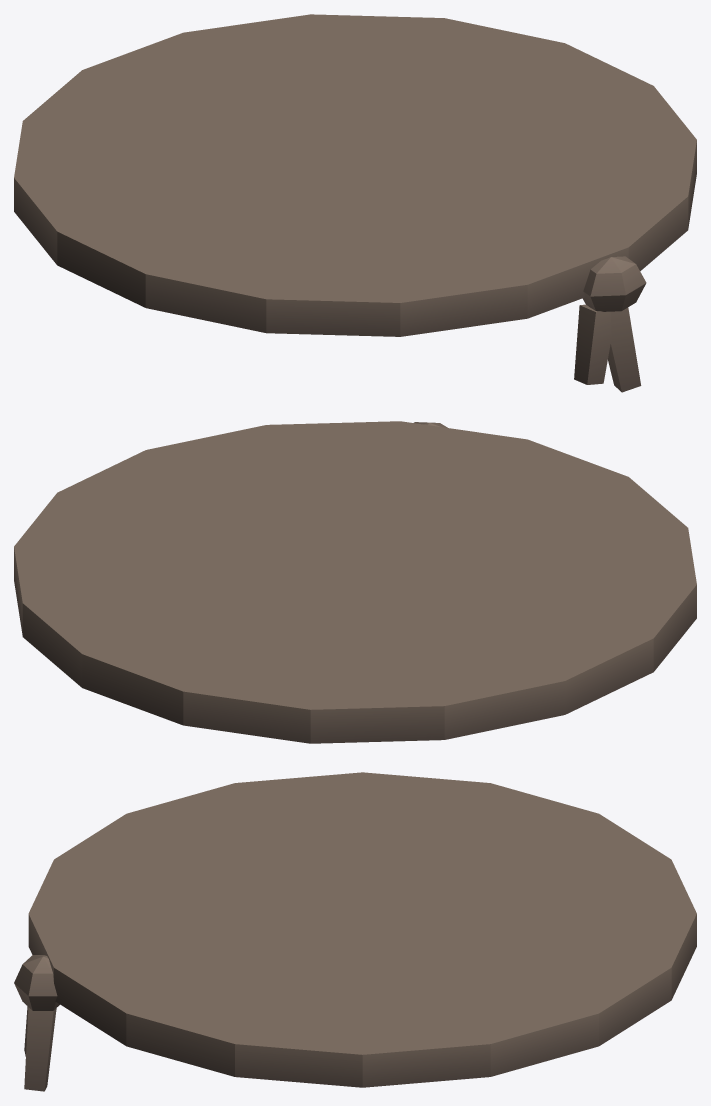
Rendered from rope_belt.glb.
The picture shows the model from 3 angles, top to bottom: view 1: azimuth 30°, elevation 25°; view 2: azimuth 150°, elevation 25°; view 3: azimuth 270°, elevation 25°; orthographic projection. The views are drawn at different scales.
Parts seen in each view (by area): view 1: rope_belt; view 2: rope_belt; view 3: rope_belt.
Boxes of the visible parts, <box> form: rope_belt: <box>14,14,696,392</box>; rope_belt: <box>14,421,696,743</box>; rope_belt: <box>14,772,696,1091</box>.
Size of the model in its own units: 0.92 by 0.1933 by 0.94.
Materials: 1 (1 with a texture image).
